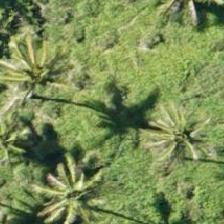coconut_tree: (134, 92, 223, 182), (0, 27, 74, 117), (27, 153, 117, 223)
